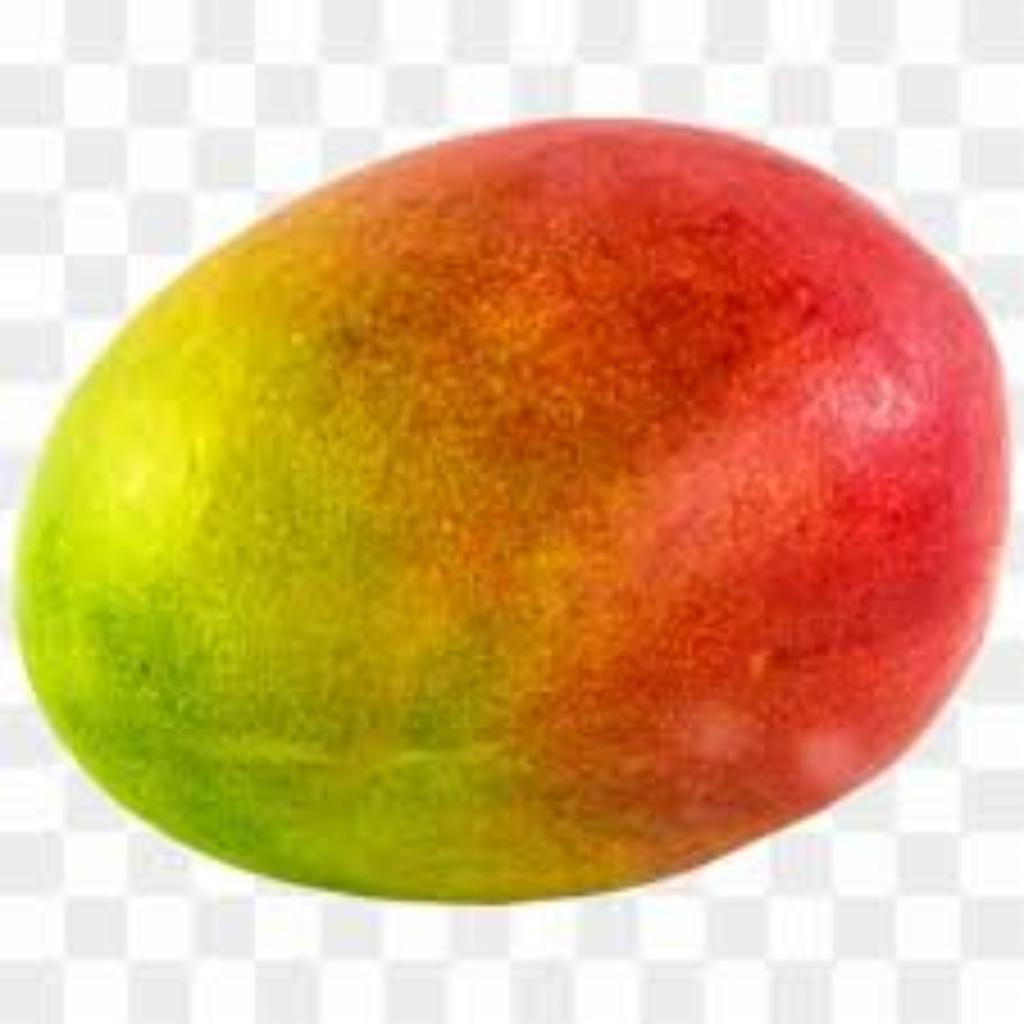mango: (23, 118, 1010, 910)
